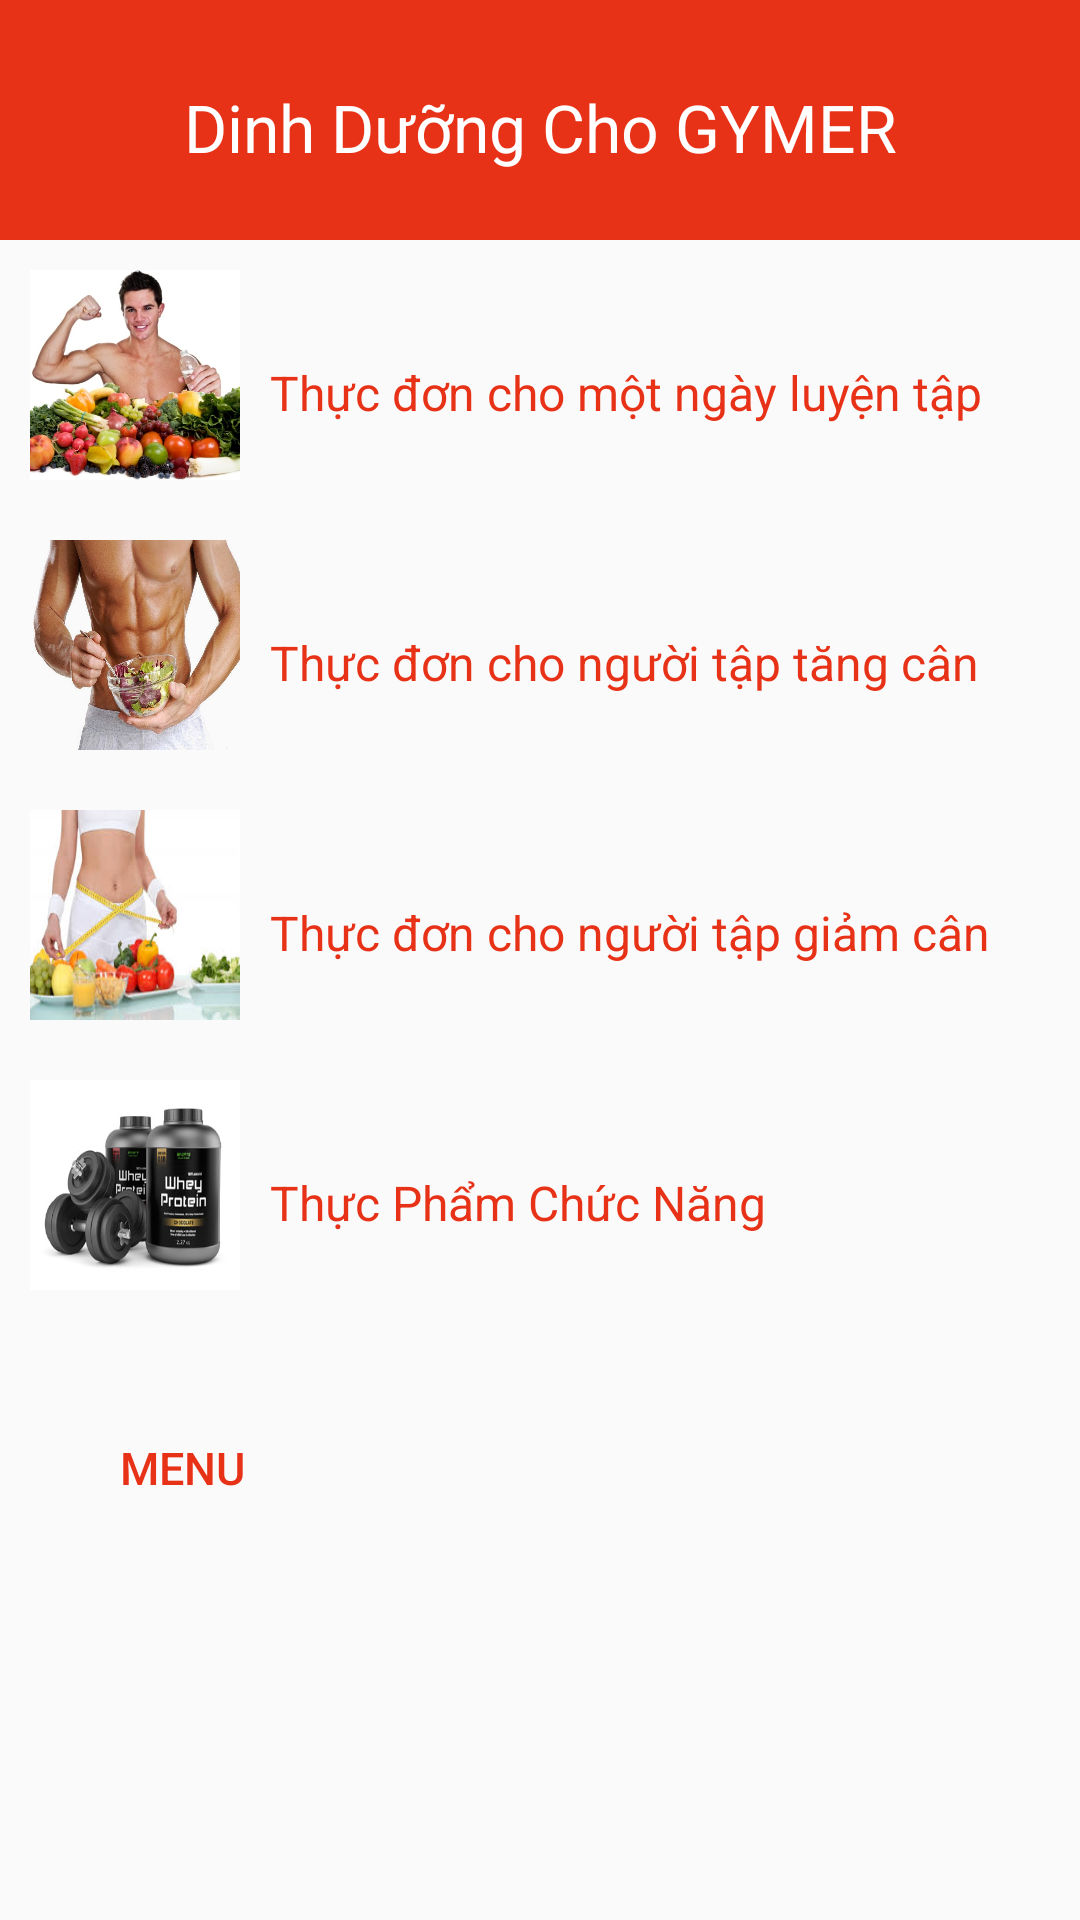

Icon click points for this 1080 x 1920 phone screenshot, format (x=x, y=y):
eat: (x=135, y=375)
giam: (x=135, y=915)
tang: (x=136, y=645)
thucpham: (x=132, y=1187)
